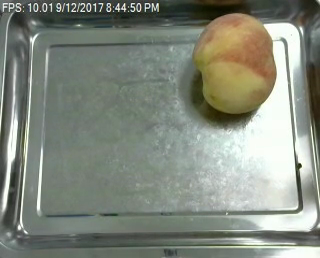Peach: (193, 11, 277, 114)
